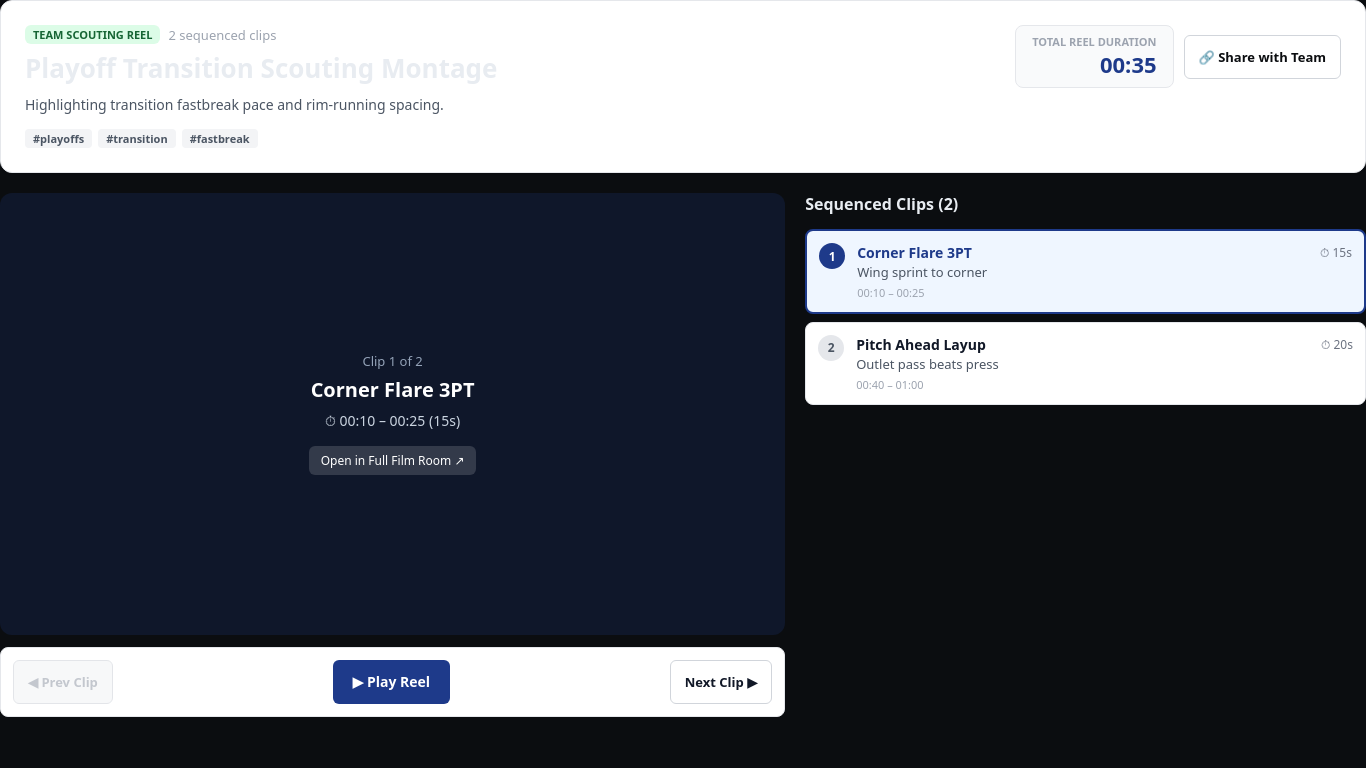
Test: ScoutingMontageView (WP-3.3) › advances to next clip on clicking Next Clip button
Expected: the text "Clip 1 of 2" is shown, top-left (362, 352), bottom-right (423, 370)
Click the button "Next Clip ▶" at (721, 682), box top-left (670, 660), bottom-right (772, 704)
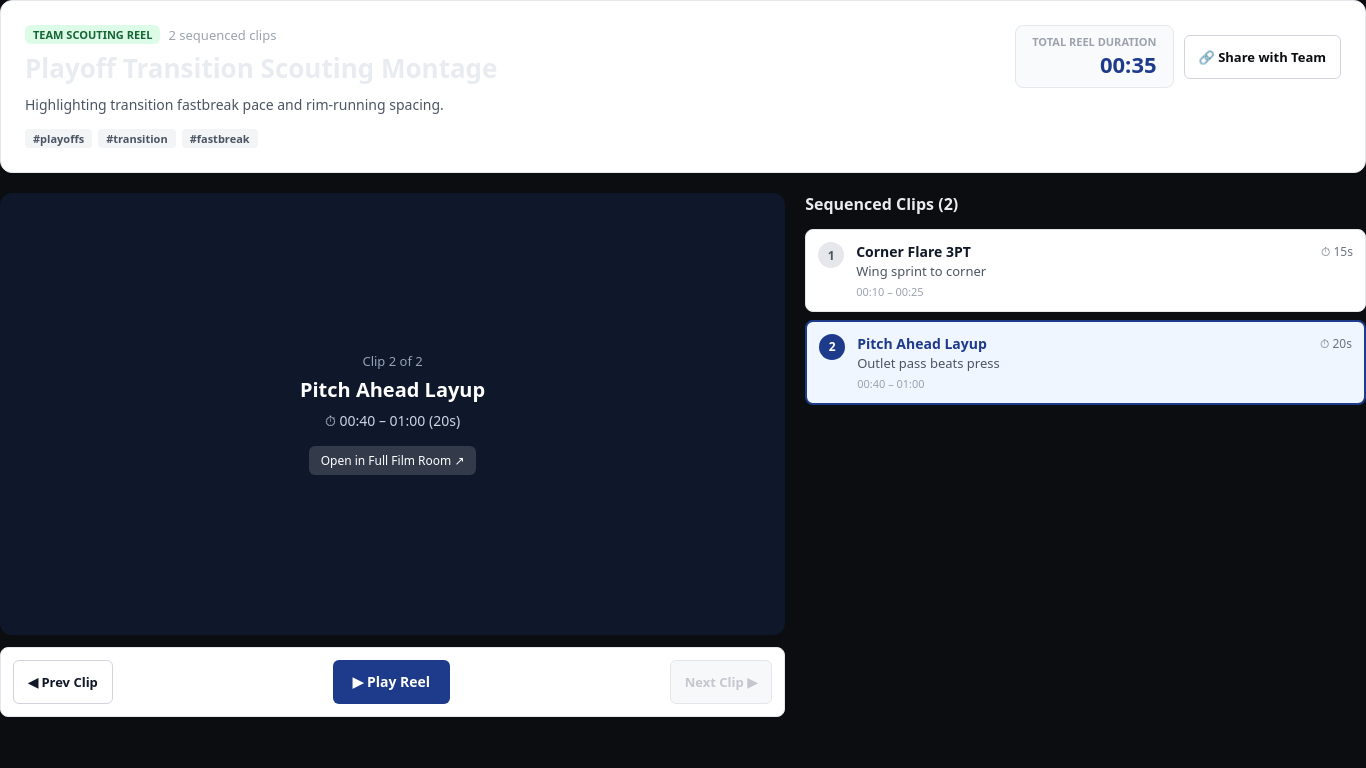
Now the text "Clip 2 of 2" is shown, box top-left (362, 352), bottom-right (423, 370)
